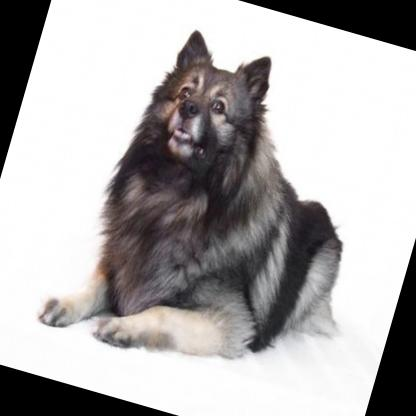keeshond: (27, 0, 410, 408)
